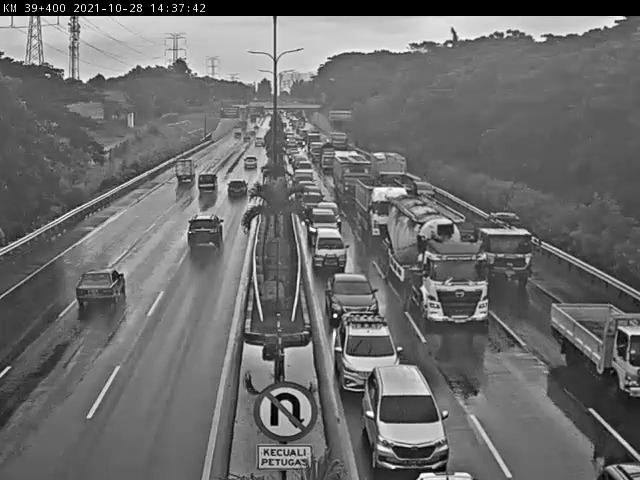big truck: (376, 182, 495, 355), (473, 204, 549, 288), (348, 172, 415, 244), (332, 150, 371, 204)
car: (353, 365, 456, 469), (331, 317, 405, 386), (316, 267, 383, 321), (76, 268, 128, 310), (188, 206, 223, 249), (310, 229, 348, 267), (308, 207, 334, 237), (302, 178, 328, 202), (196, 170, 220, 195), (228, 178, 246, 201)
small truck: (545, 295, 640, 395), (405, 261, 490, 359), (169, 152, 197, 187)
